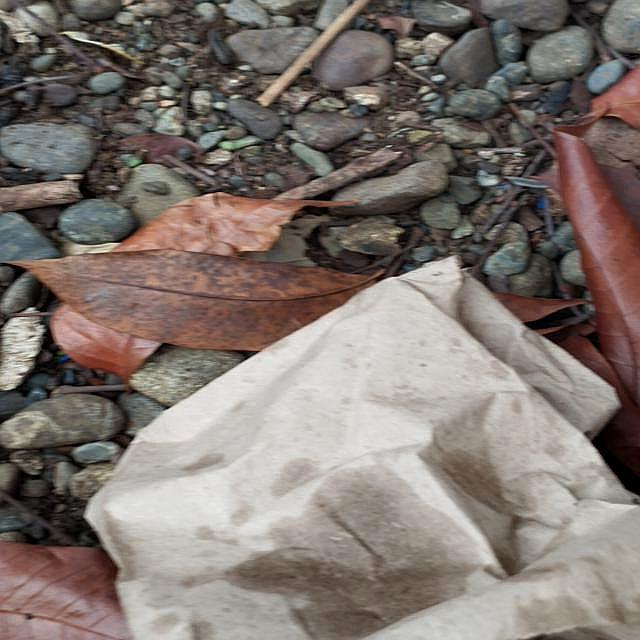Biodegradable: (87, 263, 640, 640)
